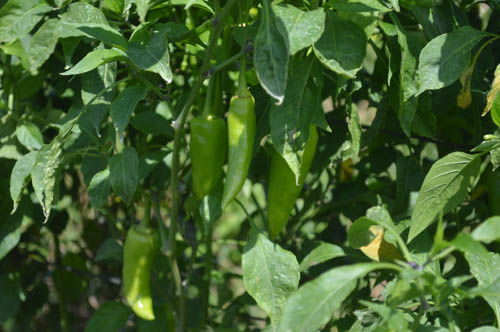ChiliPepper: (262, 125, 323, 245), (121, 229, 162, 324), (185, 118, 227, 201), (226, 96, 254, 208)
